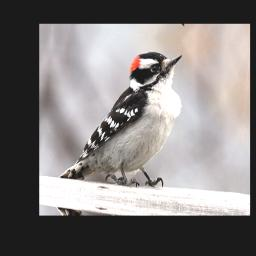Woodpecker: (60, 41, 186, 195)
